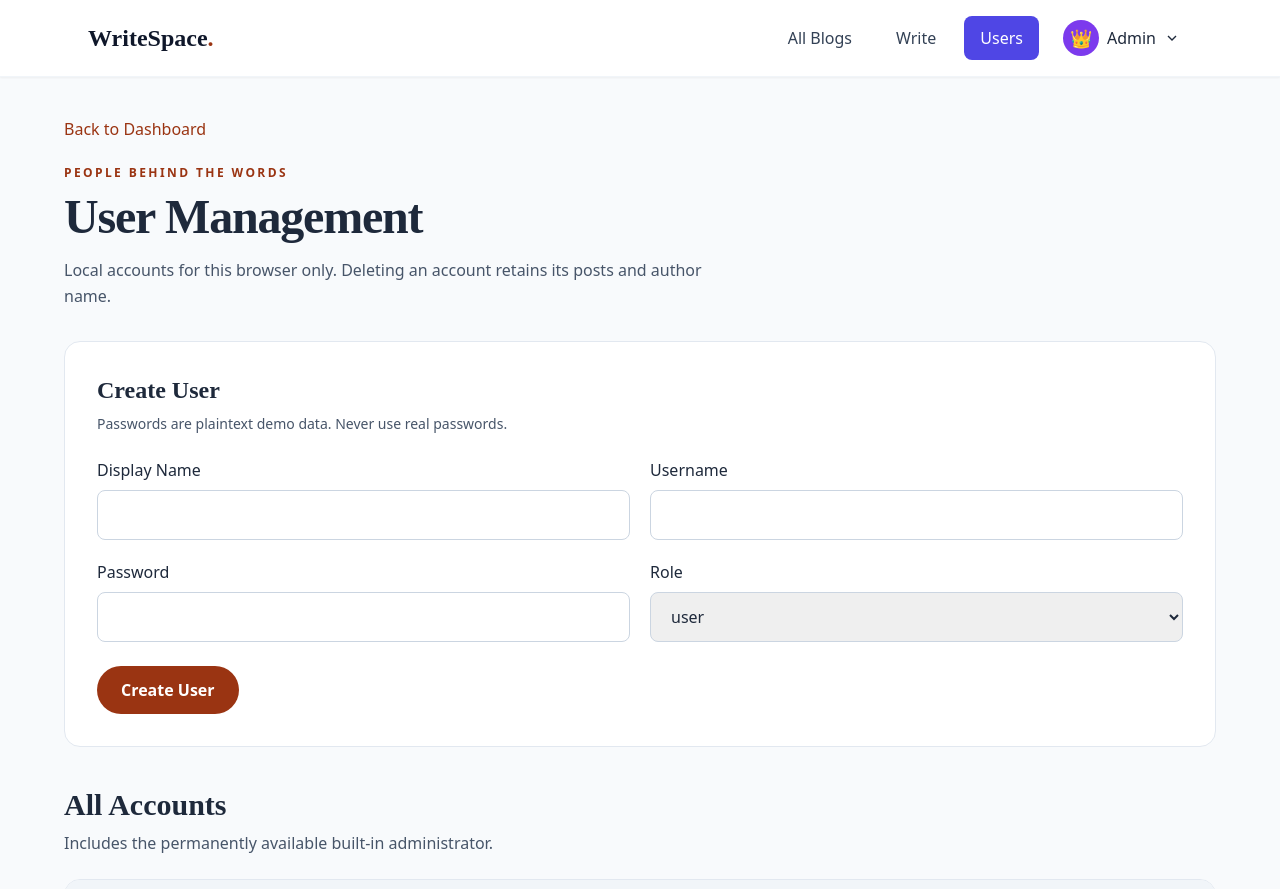
Test: associates required and reserved errors and rejects case-insensitive duplicate
The width and height of the screenshot is (1280, 889).
Later steps or results of the test are not shown.
Click the button "Create User" at (168, 690), box 97,666 -> 239,714
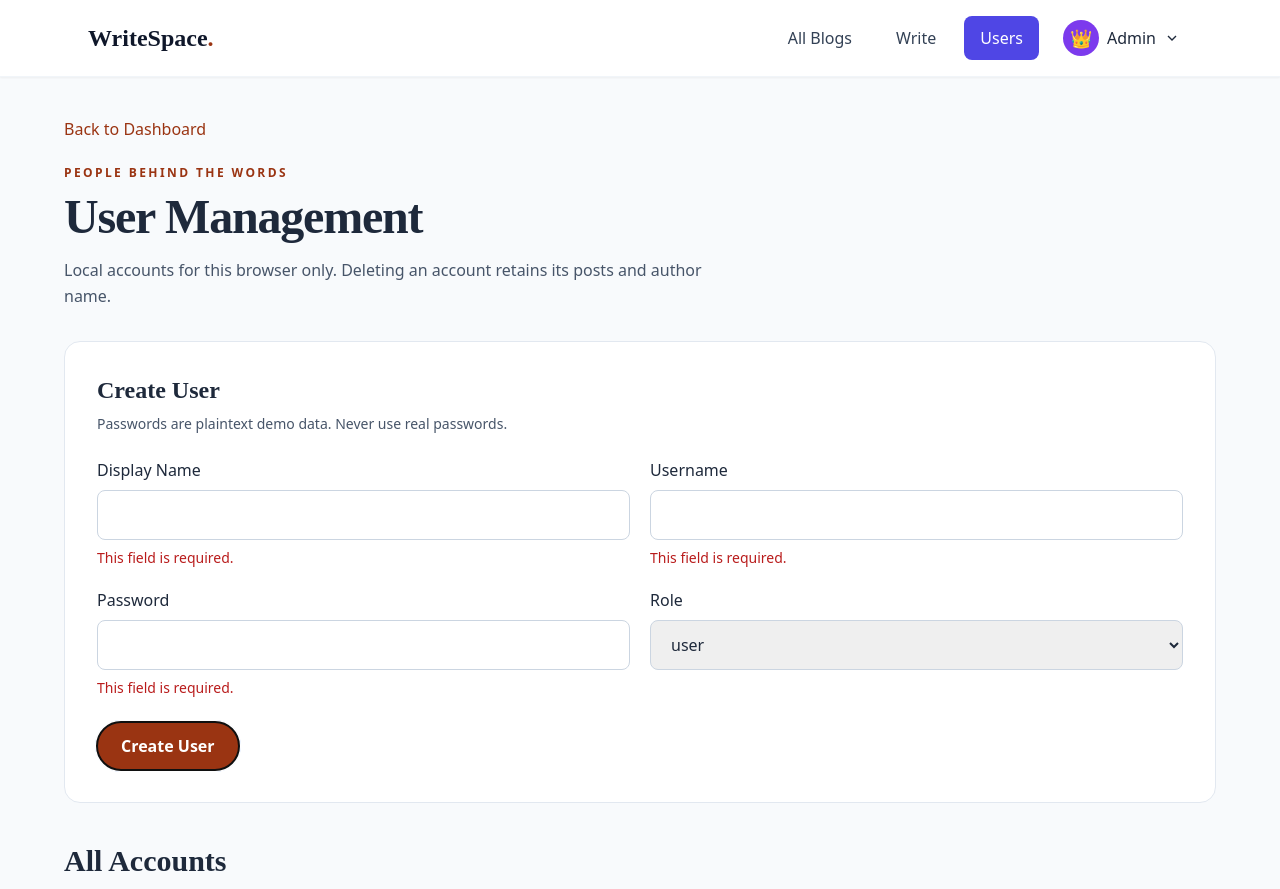
Expected: the password field labelled "Password" is marked as invalid, 97,620 -> 630,670
